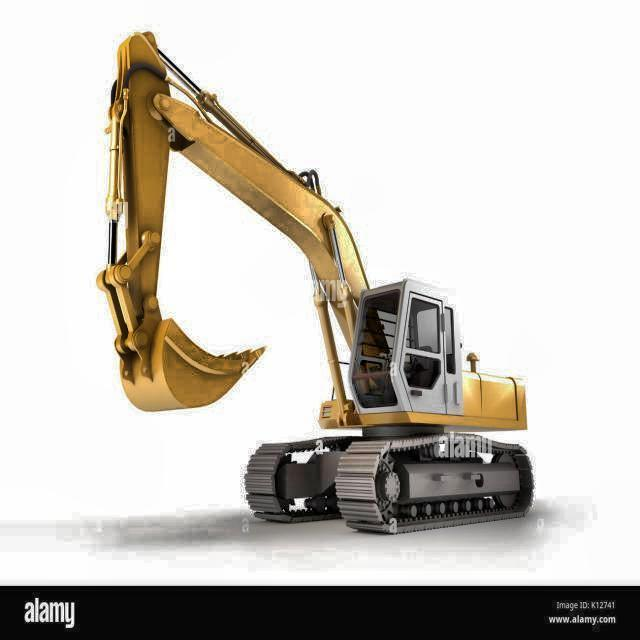excavator: (97, 16, 547, 528)
